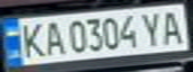0: (63, 16, 87, 54), (103, 13, 121, 51)
3: (84, 16, 106, 53)
4: (118, 11, 142, 50)
A: (157, 7, 187, 46), (39, 18, 66, 56)
K: (15, 19, 48, 58)
Y: (139, 9, 169, 47)
